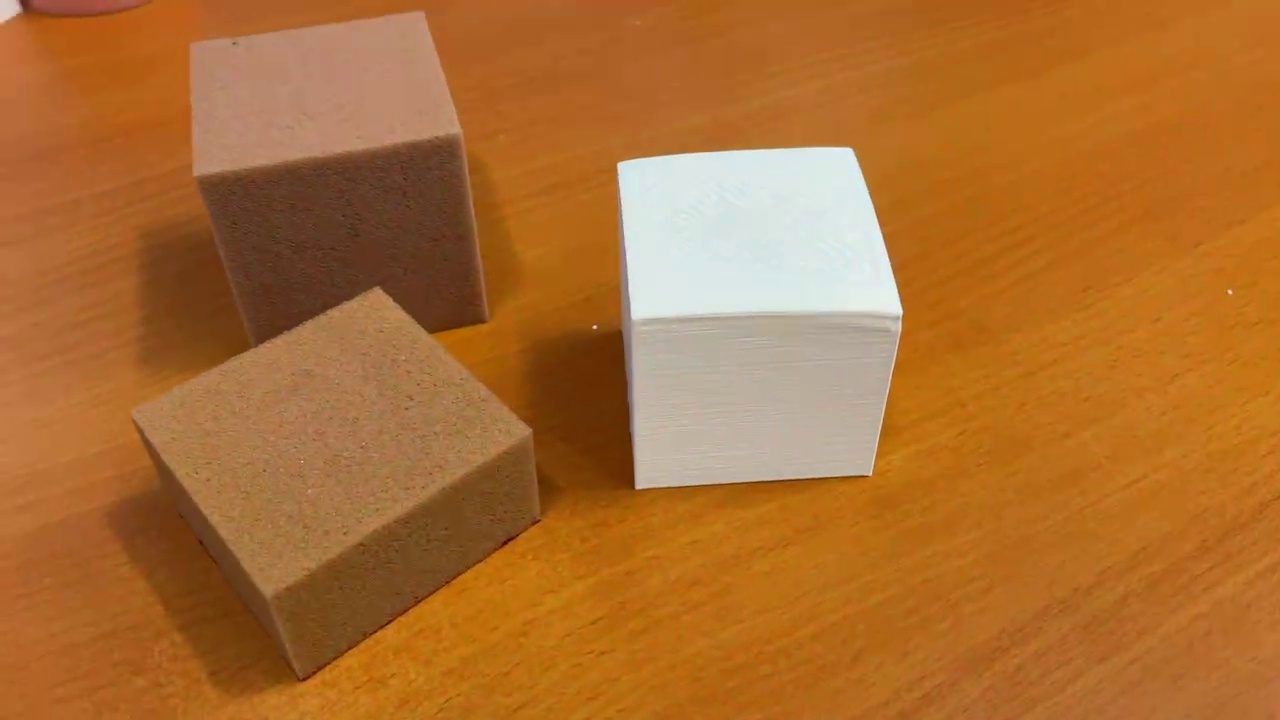Cube: (609, 134, 906, 497), (183, 8, 495, 350)
Cube_short: (125, 282, 549, 684)
